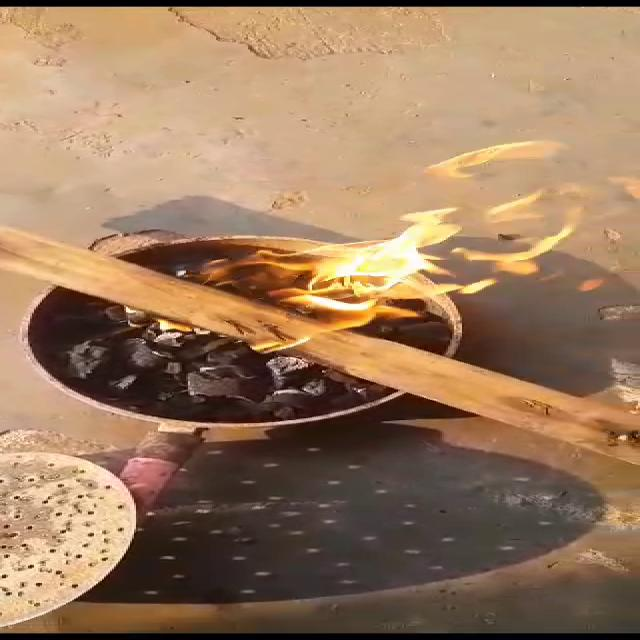Fire: (208, 163, 640, 360)
